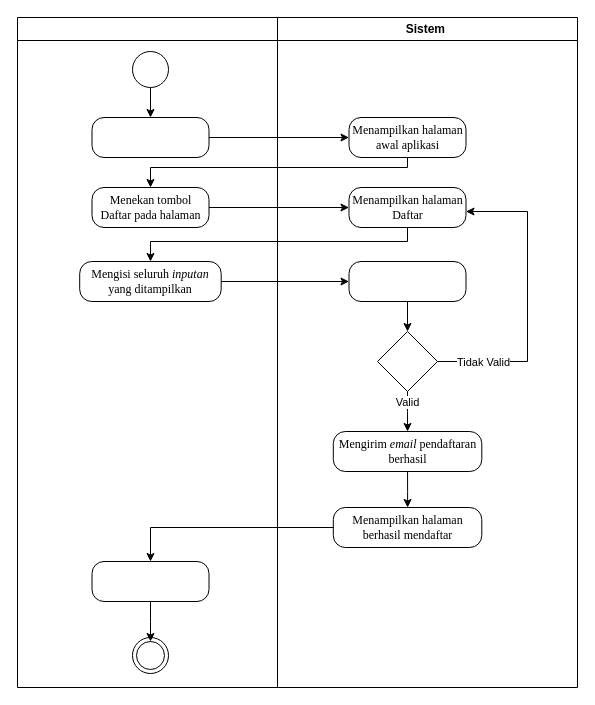
The diagram is 595 pixels wide and 705 high, and some of its shapes have lost their labels. The box of each missing label's shape, as (x1, y1, x2, y2) in pixels:
Melihat halaman berhasil mendaftar: (91, 560, 209, 602)
Membuka Aplikasi Web: (91, 116, 209, 158)
Memverifikasi data: (348, 260, 466, 302)
User: (16, 16, 278, 688)
